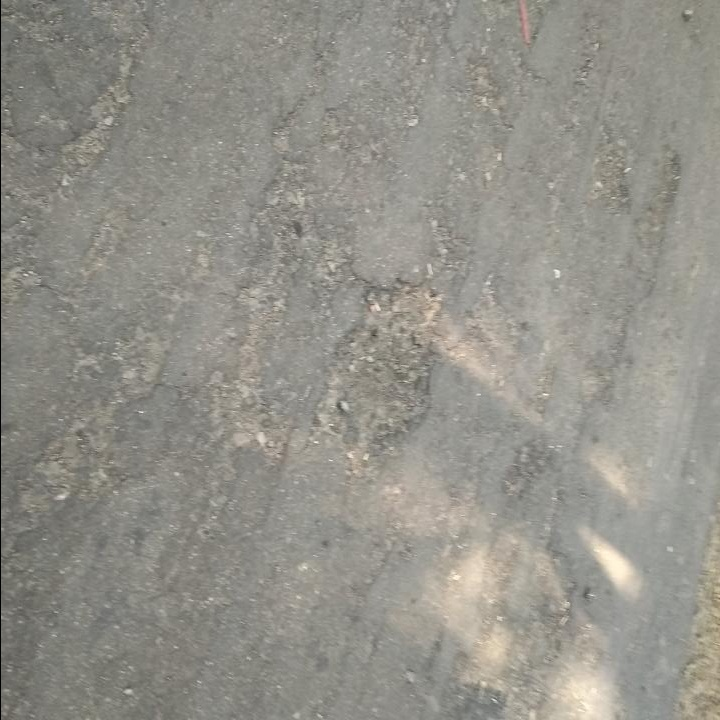pothole: (311, 267, 452, 482)
